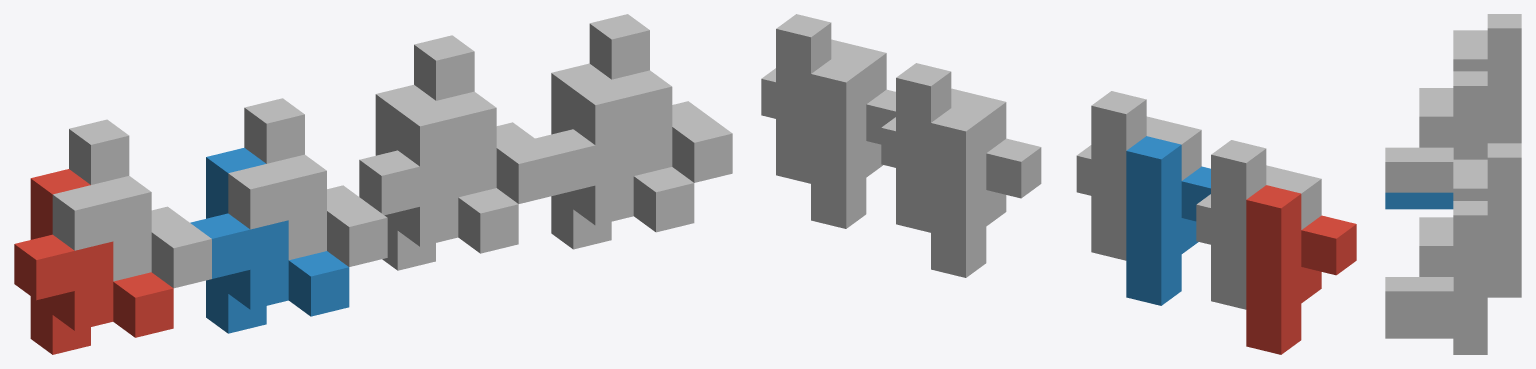
File: tiling.obj
3 views of the same model, side by side, from view 1: azimuth 30°, elevation 25°; view 2: azimuth 150°, elevation 25°; view 3: azimuth 270°, elevation 25° (orthographic). The views are drawn at different scales.
Visible parts, largest first — view 1: copy_1_domain_1, copy_1_domain_8, copy_1_domain_4, copy_1_domain_3, copy_1_domain_7, copy_1_domain_5, copy_1_domain_6, copy_1_domain_2; view 2: copy_1_domain_1, copy_1_domain_5, copy_1_domain_2, copy_1_domain_6, copy_1_domain_3, copy_1_domain_4, copy_1_domain_7, copy_1_domain_8; view 3: copy_1_domain_8, copy_1_domain_4, copy_1_domain_7, copy_1_domain_3, copy_1_domain_6, copy_1_domain_2, copy_1_domain_5.
Part boxes in pixels (box(x1,y1,x2,y2)): copy_1_domain_1: box(14, 169, 173, 354); copy_1_domain_8: box(573, 14, 732, 182); copy_1_domain_4: box(228, 98, 387, 266); copy_1_domain_3: box(52, 119, 211, 288); copy_1_domain_7: box(397, 35, 556, 203); copy_1_domain_5: box(359, 85, 518, 270); copy_1_domain_6: box(535, 63, 694, 249); copy_1_domain_2: box(190, 147, 349, 333); copy_1_domain_1: box(1246, 185, 1356, 354); copy_1_domain_5: box(931, 108, 1041, 277); copy_1_domain_2: box(1126, 136, 1210, 305); copy_1_domain_6: box(811, 59, 895, 228); copy_1_domain_3: box(1196, 140, 1321, 309); copy_1_domain_4: box(1076, 91, 1201, 260); copy_1_domain_7: box(881, 63, 1006, 232); copy_1_domain_8: box(761, 14, 886, 183); copy_1_domain_8: box(1385, 201, 1487, 338); copy_1_domain_4: box(1385, 71, 1487, 192); copy_1_domain_7: box(1453, 143, 1521, 280); copy_1_domain_3: box(1453, 14, 1521, 143); copy_1_domain_6: box(1385, 322, 1487, 354); copy_1_domain_2: box(1385, 192, 1453, 209); copy_1_domain_5: box(1487, 281, 1521, 297).
Bounding box in the file's own units: 17 × 5 × 4.
